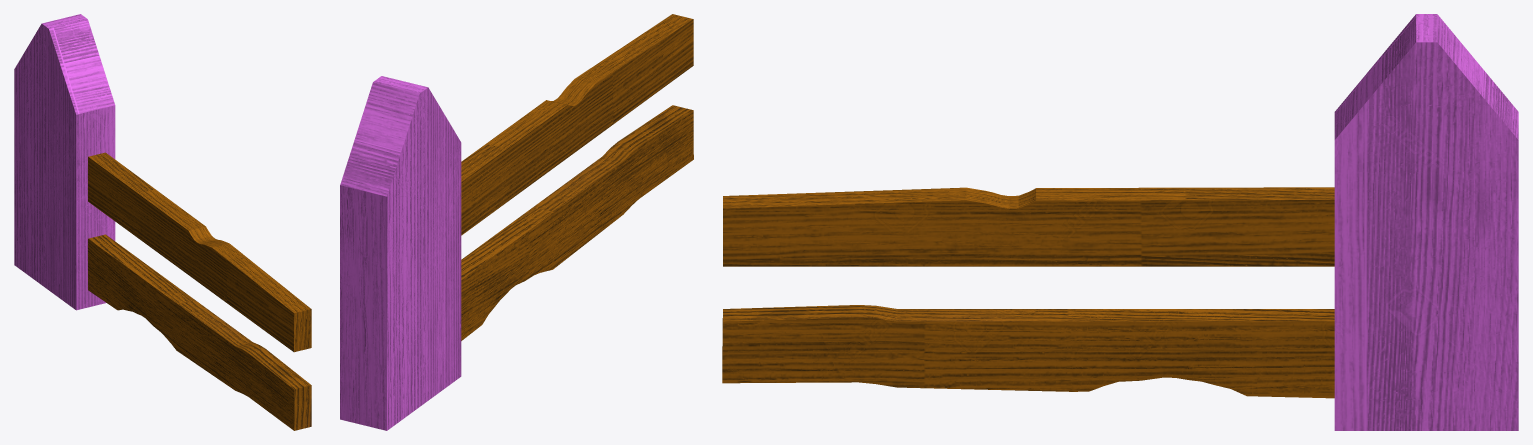
The model's file is GD FENCE.fbx.
3 views of the same model, side by side, from view 1: azimuth 30°, elevation 25°; view 2: azimuth 150°, elevation 25°; view 3: azimuth 270°, elevation 25° (orthographic). The views are drawn at different scales.
Parts seen in each view (by area): view 1: Cube.001; view 2: Cube.001; view 3: Cube.001.
Boxes of the visible parts, left/top/right/bottom form: Cube.001: left=14, top=14, right=311, bottom=430; Cube.001: left=340, top=14, right=693, bottom=430; Cube.001: left=722, top=14, right=1518, bottom=430.
Size of the model in its own units: 72.92 by 466 by 865.
Materials: 1 (1 with a texture image).
